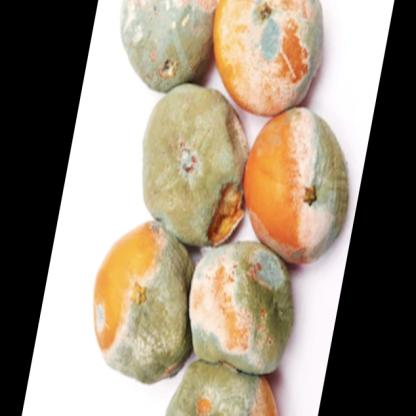rotten: (96, 1, 351, 416)
